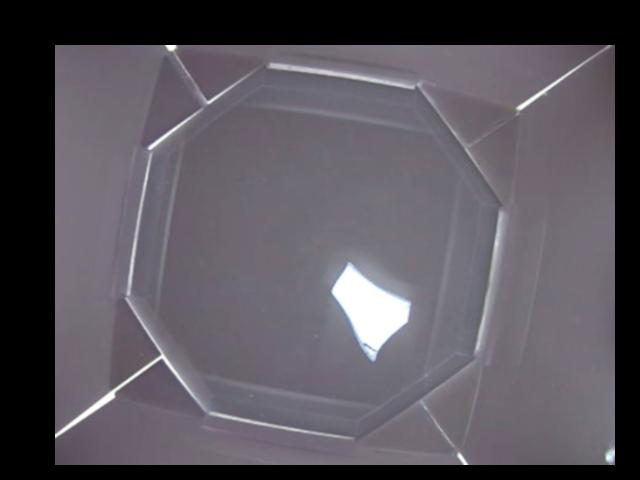China: (329, 257, 412, 360)
